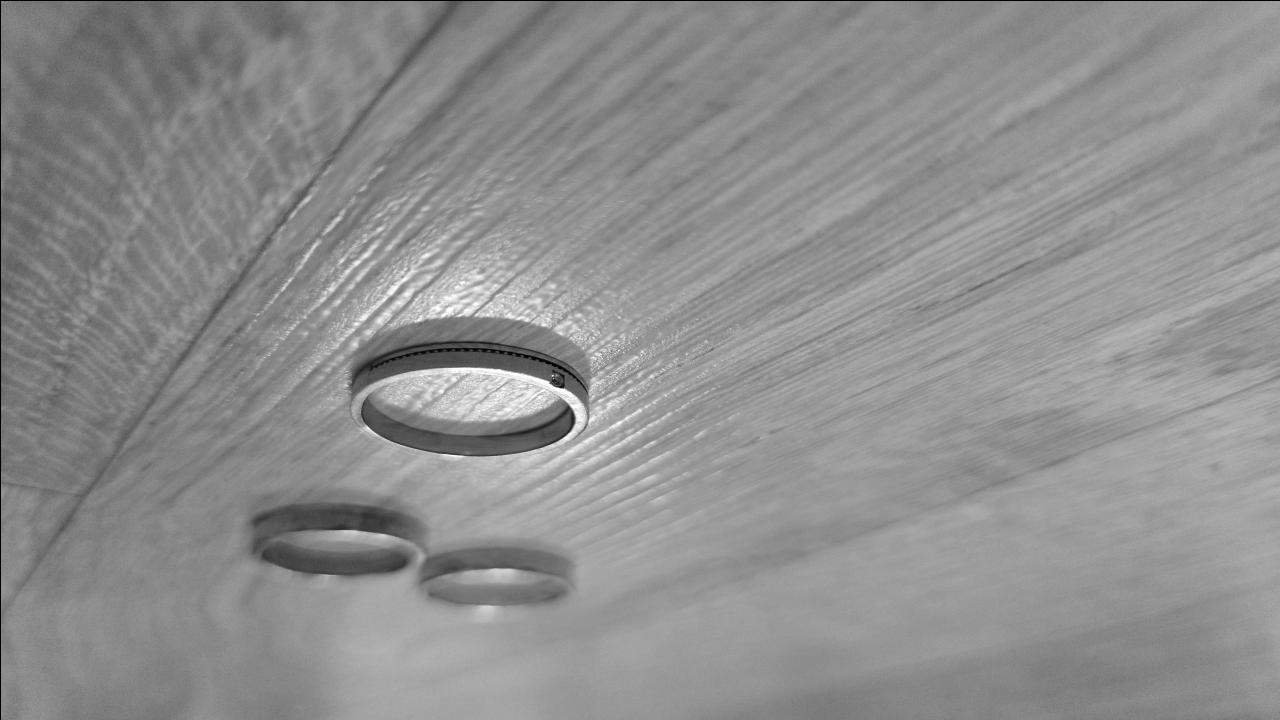ring: (348, 344, 584, 458), (245, 512, 429, 580), (414, 549, 576, 607)
